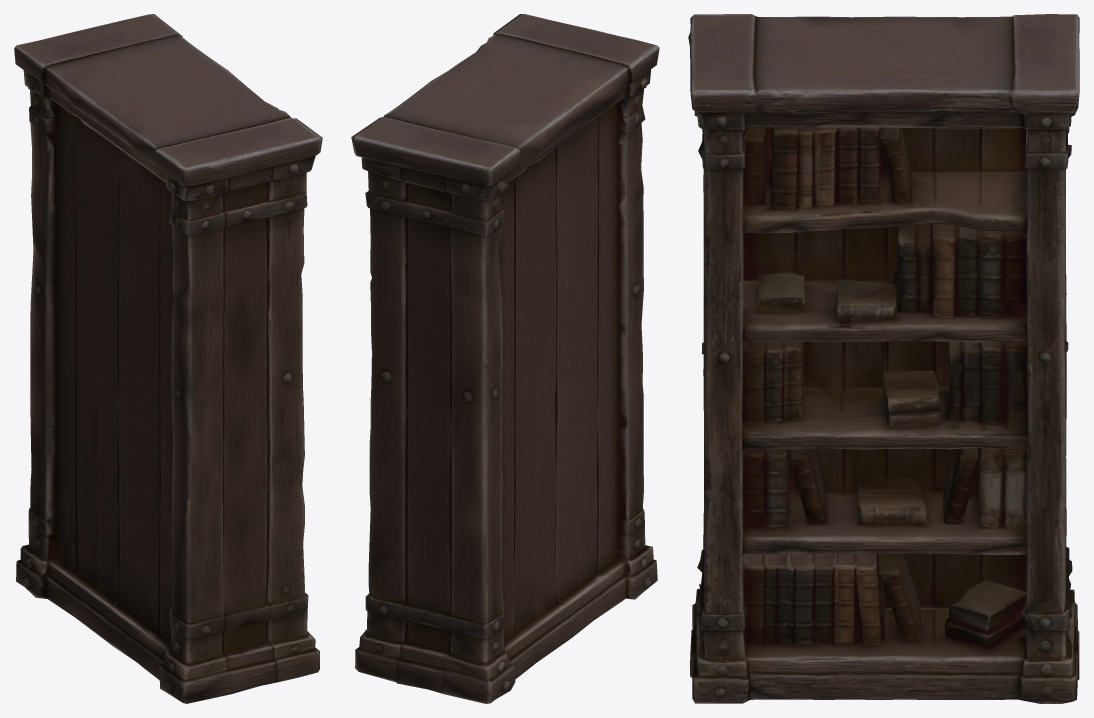
Rendered from archive-bookshelf.glb.
3 renders of one model, left to right at view 1: azimuth 30°, elevation 25°; view 2: azimuth 150°, elevation 25°; view 3: azimuth 270°, elevation 25°, orthographic. The views are drawn at different scales.
Parts seen in each view (by area): view 1: tripo_node_5a7843e6-2717-4571-a91a-9f18aa21fc13; view 2: tripo_node_5a7843e6-2717-4571-a91a-9f18aa21fc13; view 3: tripo_node_5a7843e6-2717-4571-a91a-9f18aa21fc13.
Part boxes in pixels (bbox=[...]): tripo_node_5a7843e6-2717-4571-a91a-9f18aa21fc13: bbox=[14, 14, 322, 703]; tripo_node_5a7843e6-2717-4571-a91a-9f18aa21fc13: bbox=[351, 14, 659, 703]; tripo_node_5a7843e6-2717-4571-a91a-9f18aa21fc13: bbox=[688, 14, 1079, 703].
Bounding box in the file's own units: 0.2802 × 1 × 0.5771.
Materials: 1 (1 with a texture image).
